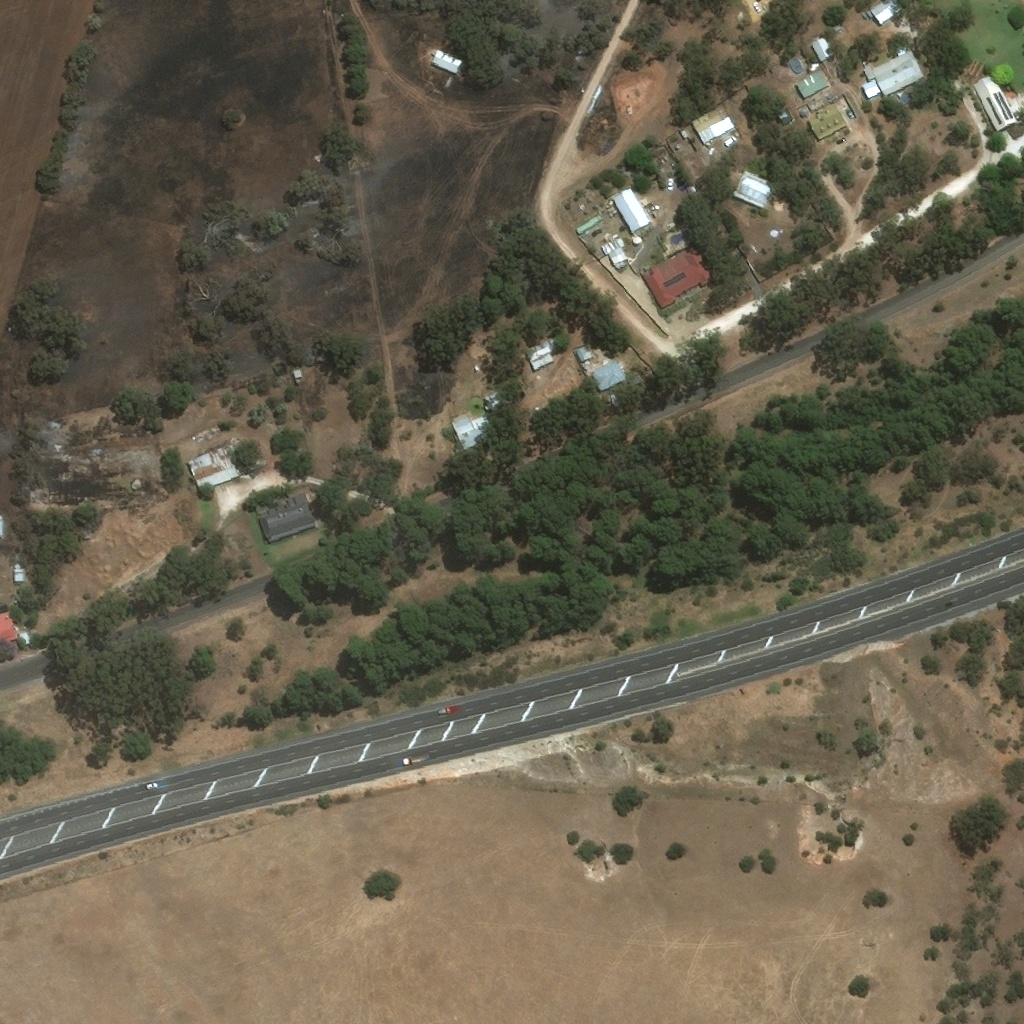0 no-damage: (638, 244, 713, 310), (860, 47, 927, 98), (257, 489, 317, 544), (971, 73, 1018, 131), (449, 407, 497, 457), (610, 187, 652, 233), (689, 104, 733, 144), (807, 101, 849, 138), (733, 171, 773, 207), (588, 358, 626, 395), (522, 336, 560, 370), (798, 68, 830, 97), (430, 48, 462, 73), (483, 389, 507, 412), (812, 33, 833, 59), (576, 214, 602, 234), (776, 104, 797, 126), (606, 248, 628, 269), (894, 85, 916, 104), (571, 345, 591, 364), (12, 564, 24, 584), (747, 6, 759, 18), (724, 136, 736, 146), (677, 130, 687, 141), (293, 368, 303, 378), (631, 236, 641, 246)
1 minor-damage: (185, 436, 261, 491)
